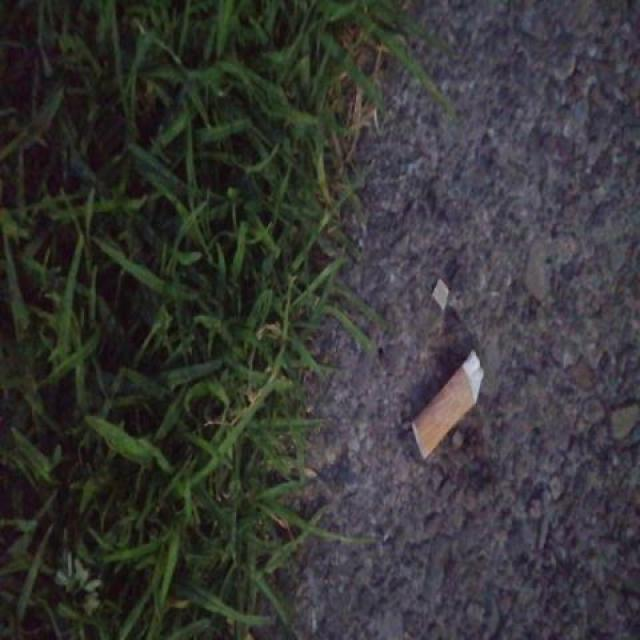non-organic waste: (408, 346, 488, 466)
